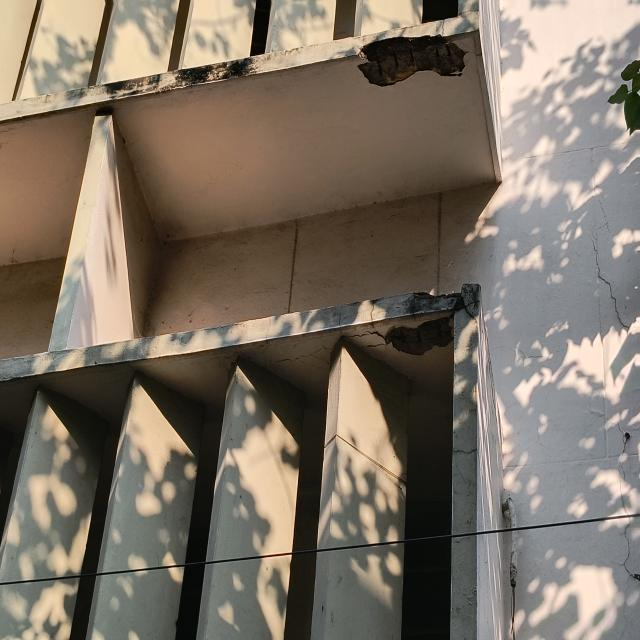Crack: (272, 301, 390, 365), (589, 234, 640, 330), (617, 419, 640, 585)
Spalling: (358, 35, 465, 86), (384, 317, 454, 355)
pollution -moisture induced blackening: (99, 64, 259, 106)
